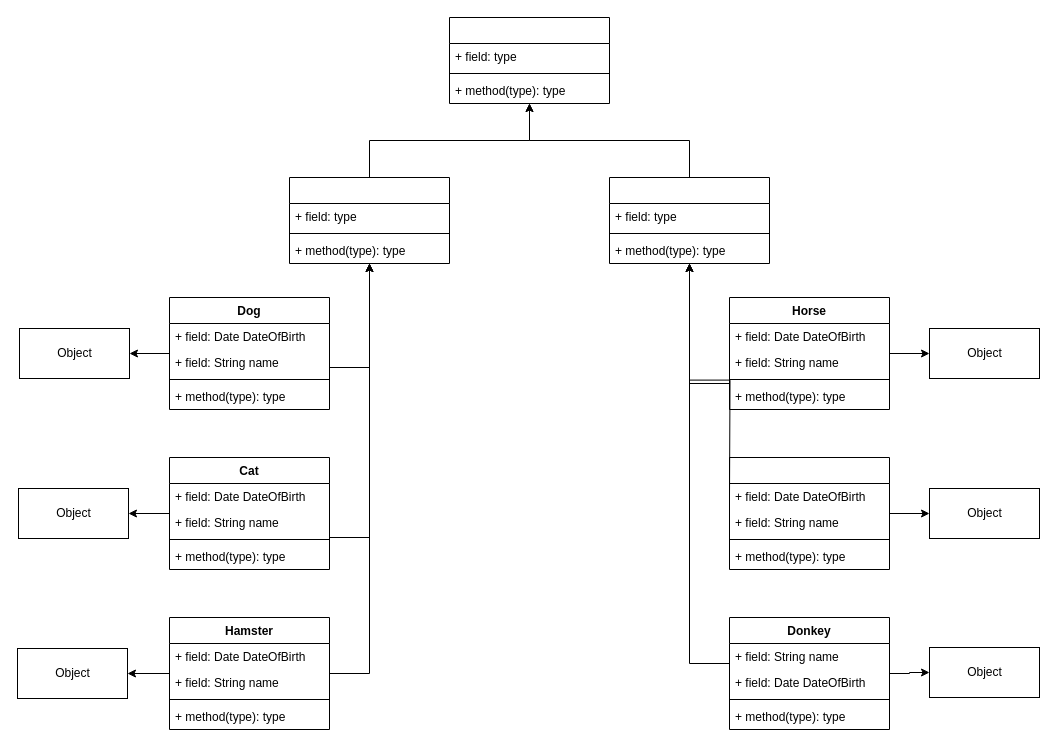
Some shapes in this 1057 by 750 pixel diagram are drawn without their labels. The box of each missing label's shape, as (x1, y1, x2, y2) in pixels:
Animals: (448, 16, 610, 104)
Camel: (728, 456, 890, 570)
PackAnimals: (608, 176, 770, 264)
Pets: (288, 176, 450, 264)
